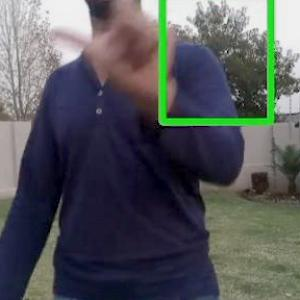land_hand: (38, 0, 187, 135)
